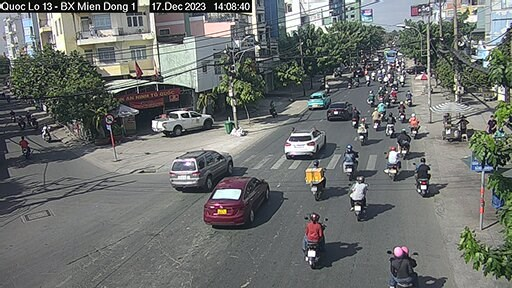car: (205, 177, 271, 226), (169, 148, 233, 188), (150, 109, 215, 138), (284, 126, 322, 156), (327, 97, 354, 123), (308, 91, 329, 108)
motorbike: (382, 231, 420, 286), (302, 216, 331, 267), (306, 160, 329, 201), (413, 162, 437, 198), (350, 181, 373, 218), (381, 140, 401, 180), (339, 148, 359, 175), (354, 115, 372, 142), (395, 134, 411, 154), (411, 116, 423, 137), (365, 86, 376, 107), (384, 117, 396, 136), (397, 104, 409, 123)
